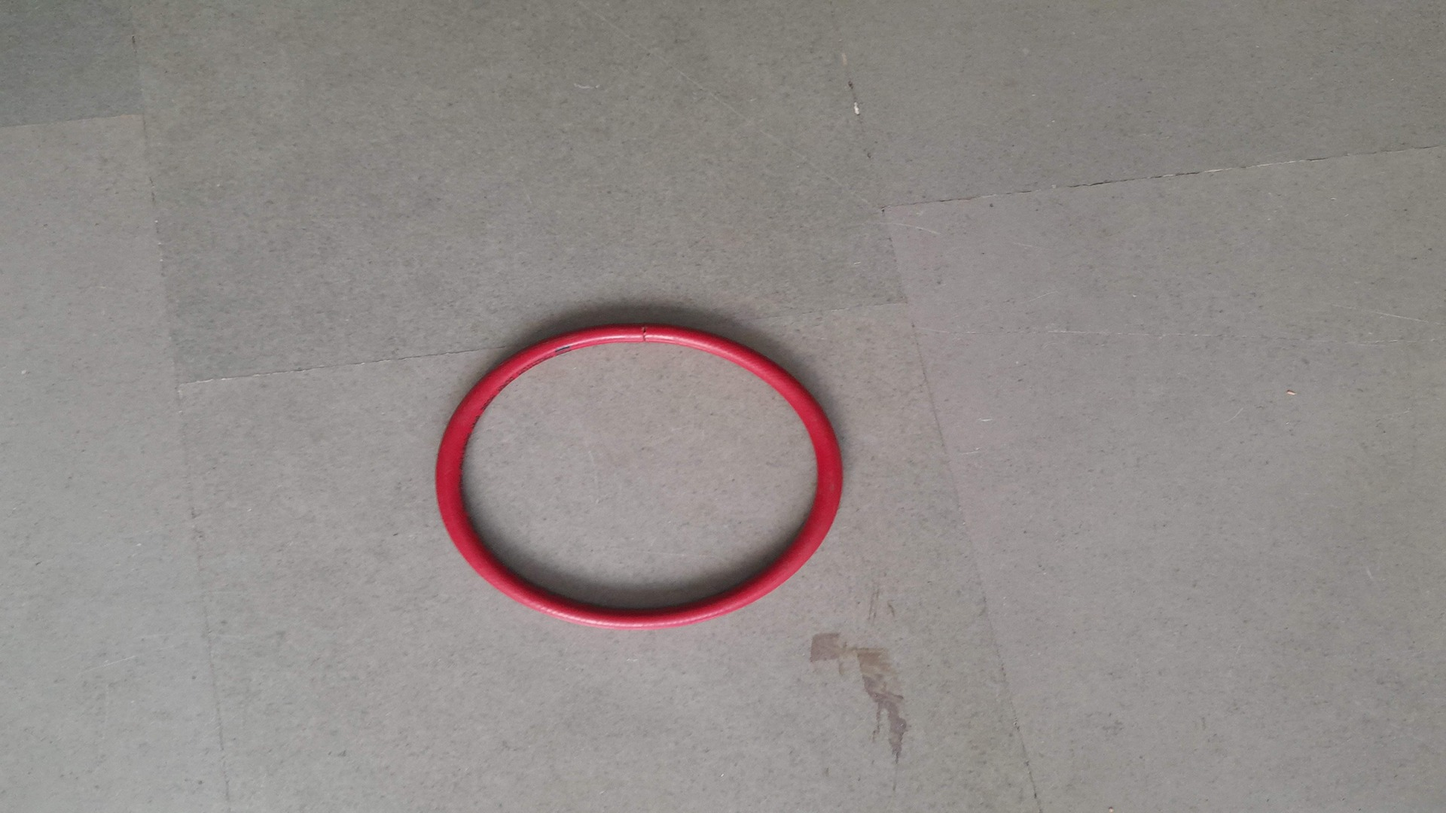Red ring: (432, 324, 843, 629)
